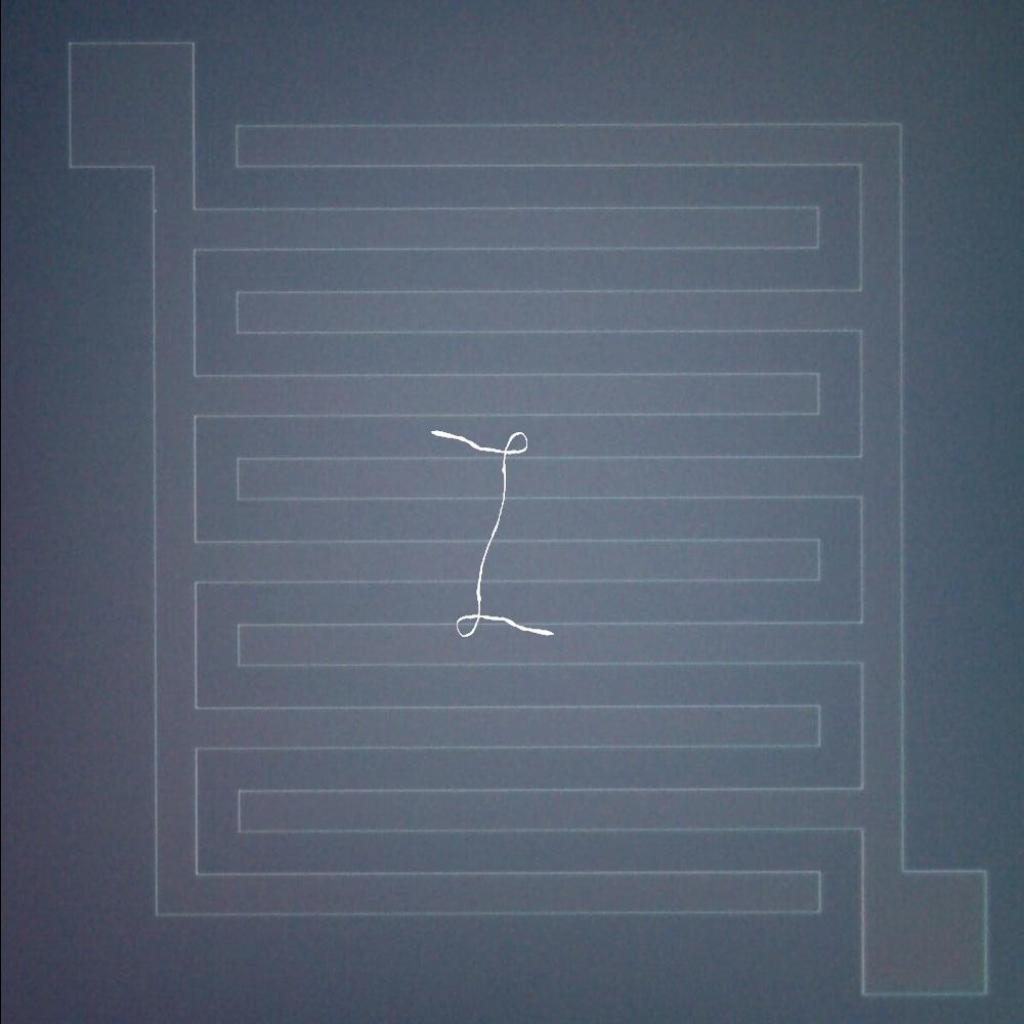line: (418, 416, 561, 651)
